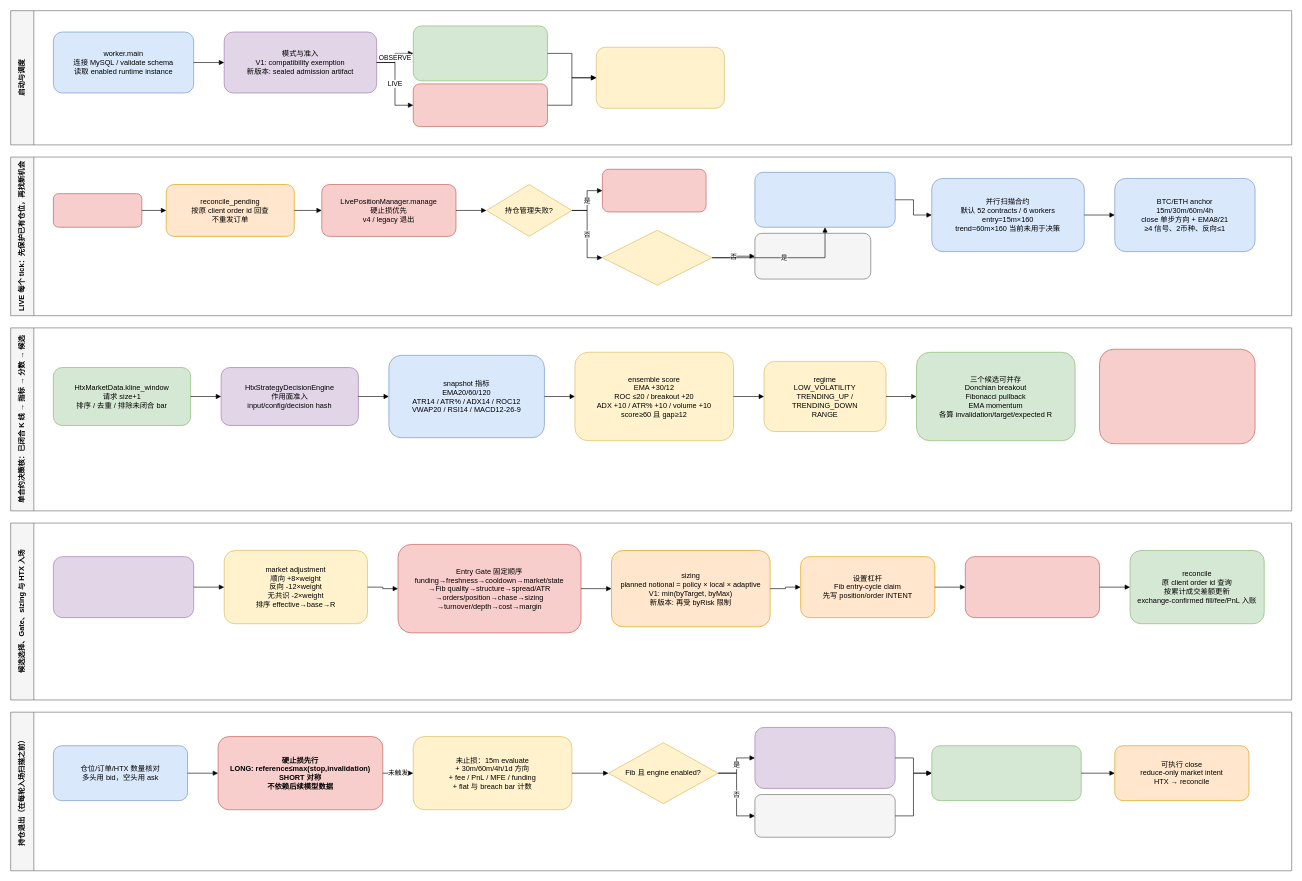
Image size: 1302x881. Some labels were removed from this diagram. Each missing label, with the centre of its shape:
"DB policy 精确匹配 primary model + confirmations base score ≥ threshold" belongs at point 123,587.
"DEGRADED 本轮不新开仓" belongs at point 654,190.
"HOLD / ARM_TRAILING / PARTIAL / FULL 保存 decision + state" belongs at point 1006,773.
"HTX market order 有 order id 仅表示 ACCEPTED 请求后异常记 UNKNOWN" belongs at point 1032,587.
"LIVE 启动闸 PRIMARY + parity approved MIXED=false + no mirror writer lock" belongs at point 480,105.
"OBSERVE 公开 HTX 客户端 只写 signal/factor/candidate" belongs at point 480,53.
"StrategySupervisor 默认每 45 秒 tick --once 仅运行一轮" belongs at point 660,77.
"writer_guard" belongs at point 97,210.
"否：decide_legacy ATR trailing / thesis state" belongs at point 824,815.
"否：复用 pending 候选 freshness 600s" belongs at point 812,256.
"新的稳定 15m close? now - 10s grace" belongs at point 657,257.
"是：decide_v4 利润武装/锁利/分批/回撤 engine_live=false 只记录" belongs at point 824,757.
"是：扫描前读取历史 breadth 35min / ≥20 symbols 70% 同向且反向≤15%" belongs at point 824,199.
"重要边界 没有 K线/EMA/成交量回归斜率 ROC 是端点收益率，不是斜率 VWAP/RSI/MACD 已算但不参与当前候选" belongs at point 1177,396.
